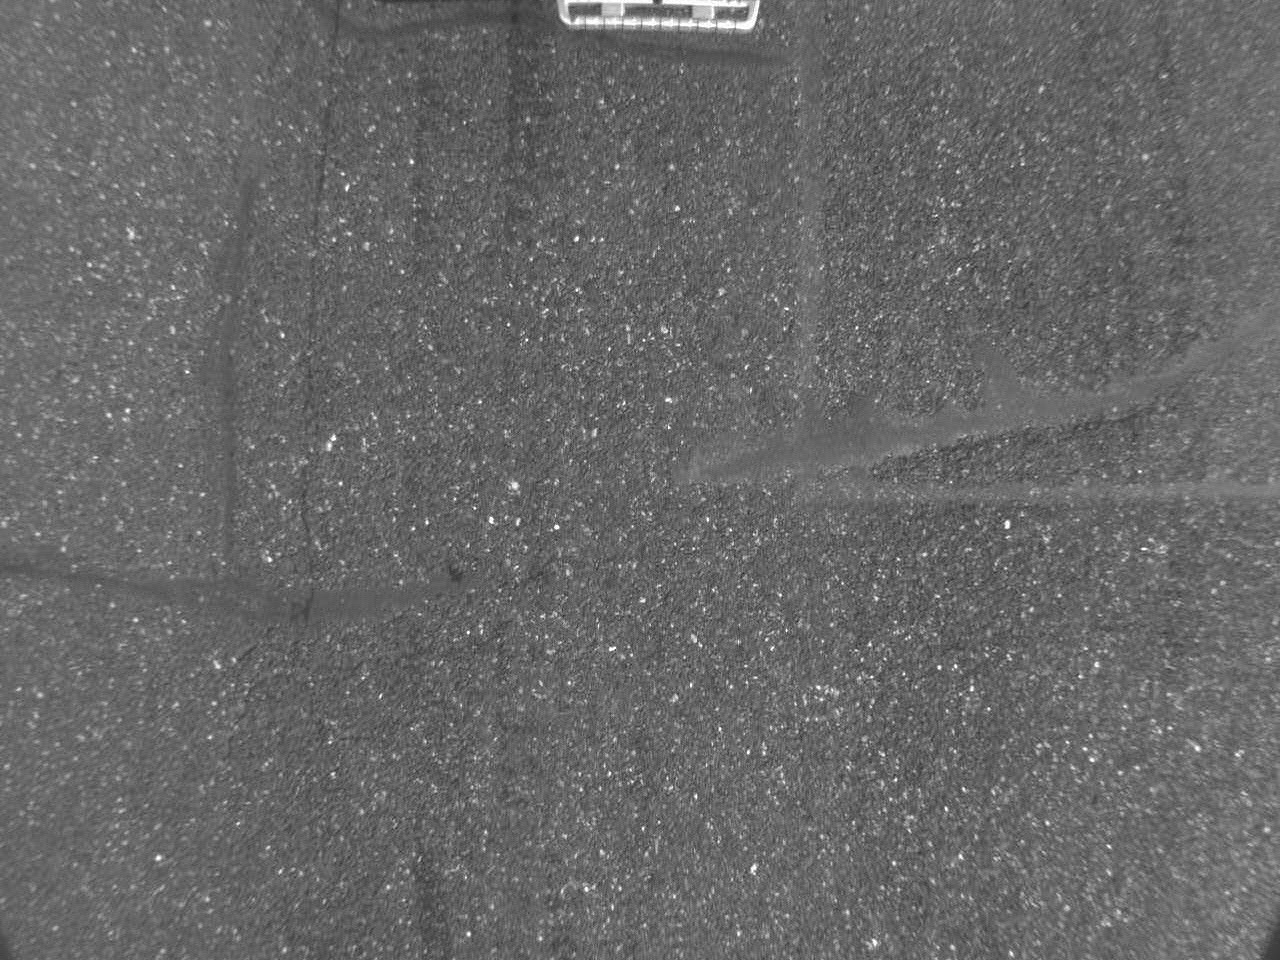sealed: (667, 337, 1275, 513)
